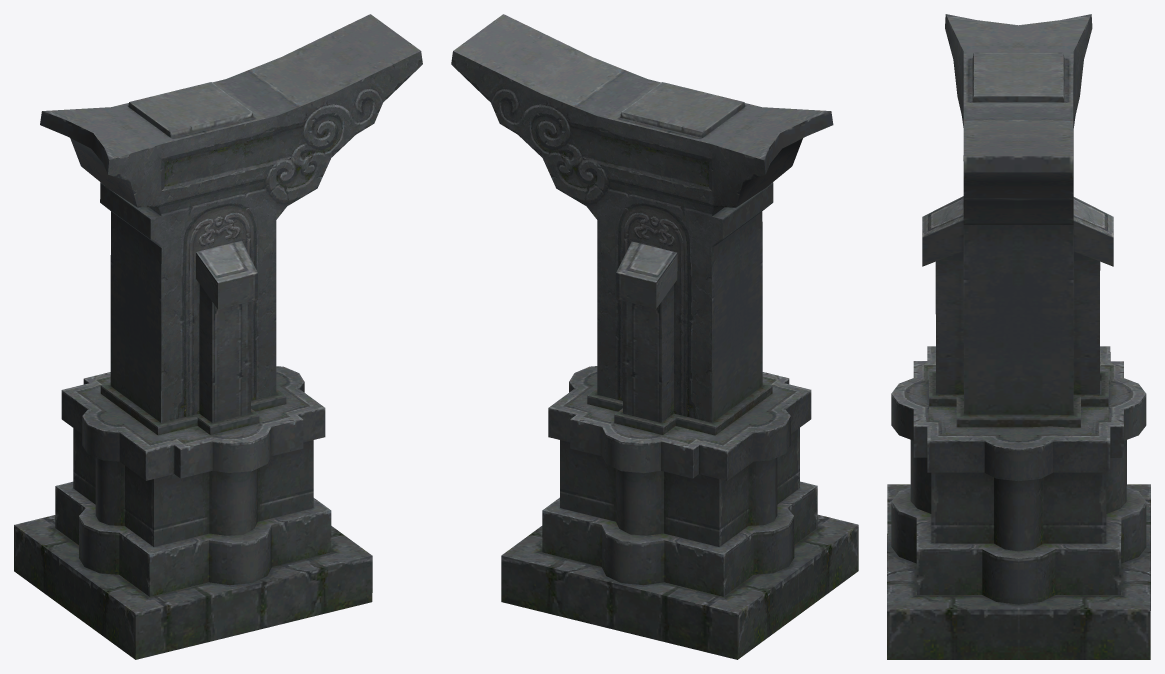
The model's file is dx_bei_1.FBX.
3 renders of one model, left to right at view 1: azimuth 30°, elevation 25°; view 2: azimuth 150°, elevation 25°; view 3: azimuth 270°, elevation 25°, orthographic. The views are drawn at different scales.
Parts seen in each view (by area): view 1: dx_bei_1; view 2: dx_bei_1; view 3: dx_bei_1.
Part boxes in pixels (left/top/right/bottom): dx_bei_1: left=14, top=14, right=422, bottom=659; dx_bei_1: left=451, top=14, right=858, bottom=659; dx_bei_1: left=887, top=14, right=1150, bottom=659.
Bounding box in the file's own units: 398 × 593 × 259.
